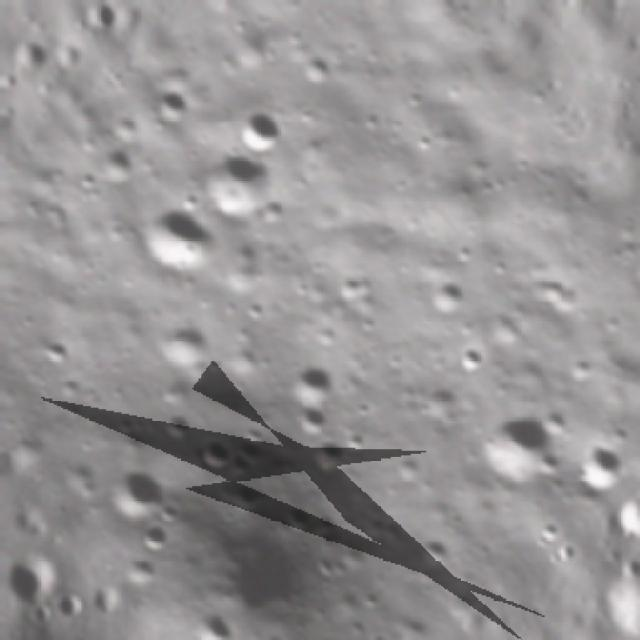crater: (184, 489, 351, 640), (456, 393, 576, 510), (117, 182, 223, 290), (182, 133, 282, 233), (92, 450, 173, 532), (146, 304, 226, 384), (557, 428, 638, 506), (268, 338, 344, 416), (217, 90, 292, 165), (412, 263, 476, 328), (146, 393, 202, 450), (285, 41, 341, 96), (186, 425, 240, 481), (109, 540, 165, 594), (140, 78, 194, 130), (299, 427, 350, 479), (282, 392, 333, 443), (127, 509, 178, 560), (404, 522, 456, 572), (183, 598, 243, 640), (327, 260, 376, 311), (90, 137, 138, 186), (445, 333, 492, 381), (34, 325, 81, 372), (615, 233, 640, 318), (101, 105, 142, 146), (556, 347, 598, 387), (357, 621, 393, 640)
